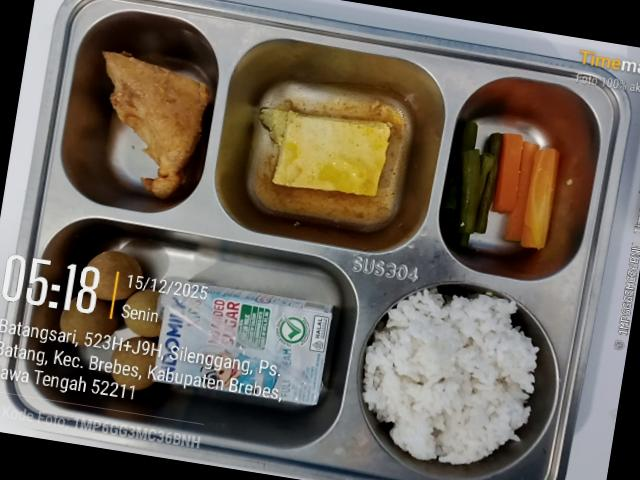ayam: (273, 112, 390, 196)
buah: (62, 251, 161, 392)
nasi: (363, 290, 539, 465)
sayur: (456, 134, 559, 249)
susu: (156, 283, 333, 405)
tahu: (103, 52, 209, 198)
